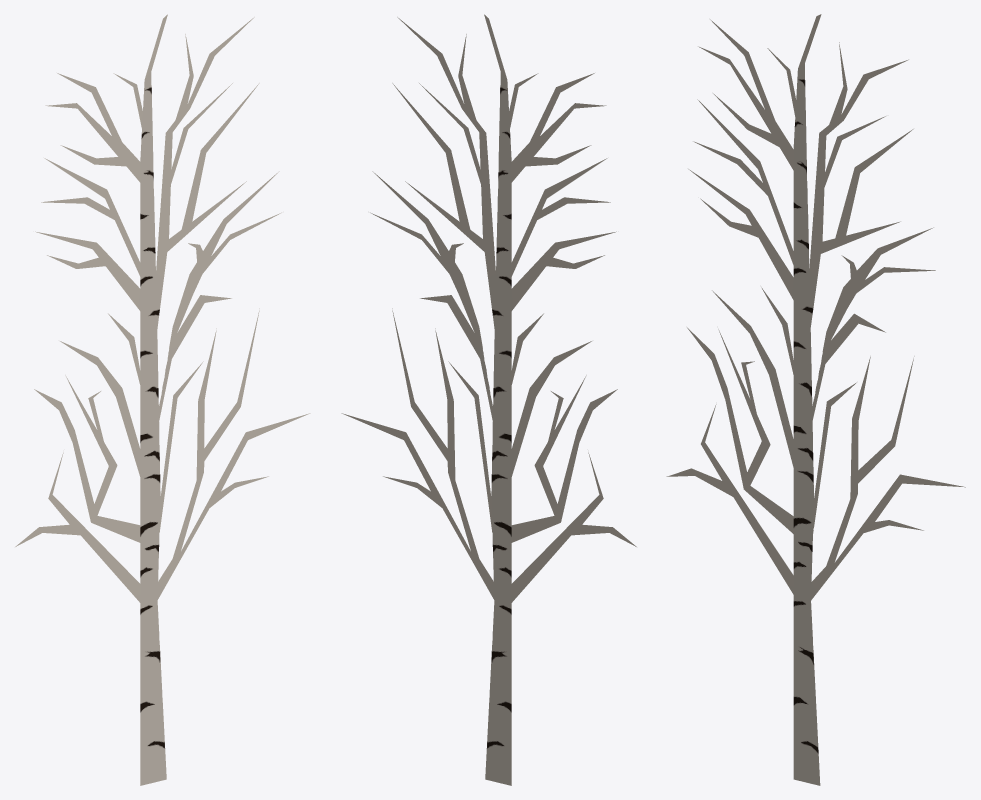
The model's file is Birch_03.fbx.
3 views of the same model, side by side, from view 1: azimuth 30°, elevation 25°; view 2: azimuth 150°, elevation 25°; view 3: azimuth 330°, elevation 25° (orthographic).
Parts seen in each view (by area): view 1: planarTrimmedSurface1; view 2: planarTrimmedSurface1; view 3: planarTrimmedSurface1.
Part boxes in pixels (x1=…): planarTrimmedSurface1: x1=15, y1=14, x2=310, y2=785; planarTrimmedSurface1: x1=341, y1=14, x2=636, y2=785; planarTrimmedSurface1: x1=666, y1=14, x2=965, y2=785.
Size of the model in its own units: 9.7 by 23.83 by 0.
Materials: 2 (2 with a texture image).
